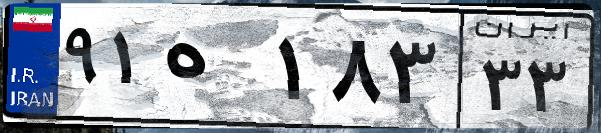1: (270, 28, 330, 110), (110, 28, 158, 98)
3: (385, 28, 445, 110), (475, 38, 525, 113), (525, 38, 570, 115)
8: (330, 28, 385, 110)
9: (57, 26, 110, 100)
ه: (158, 20, 270, 120)
